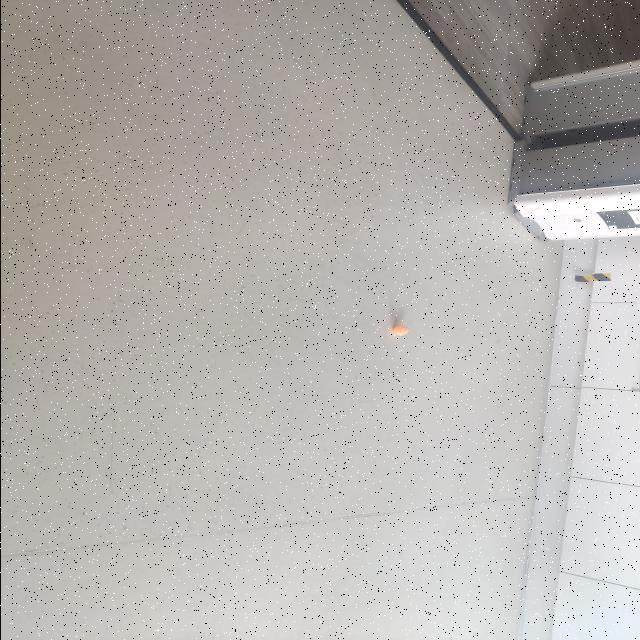ping-pong-ball: (392, 324, 408, 336)
